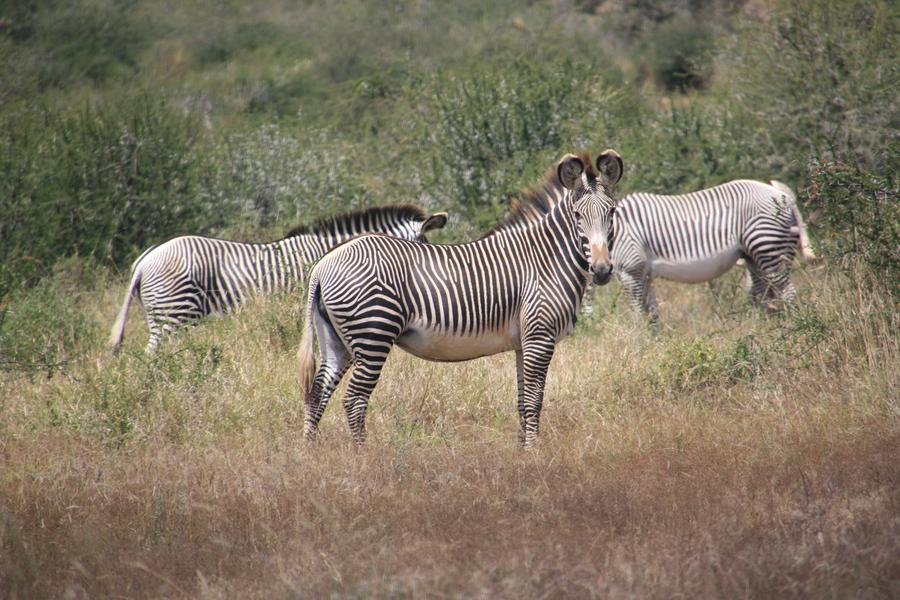zebra_grevys: (322, 231, 562, 348)
